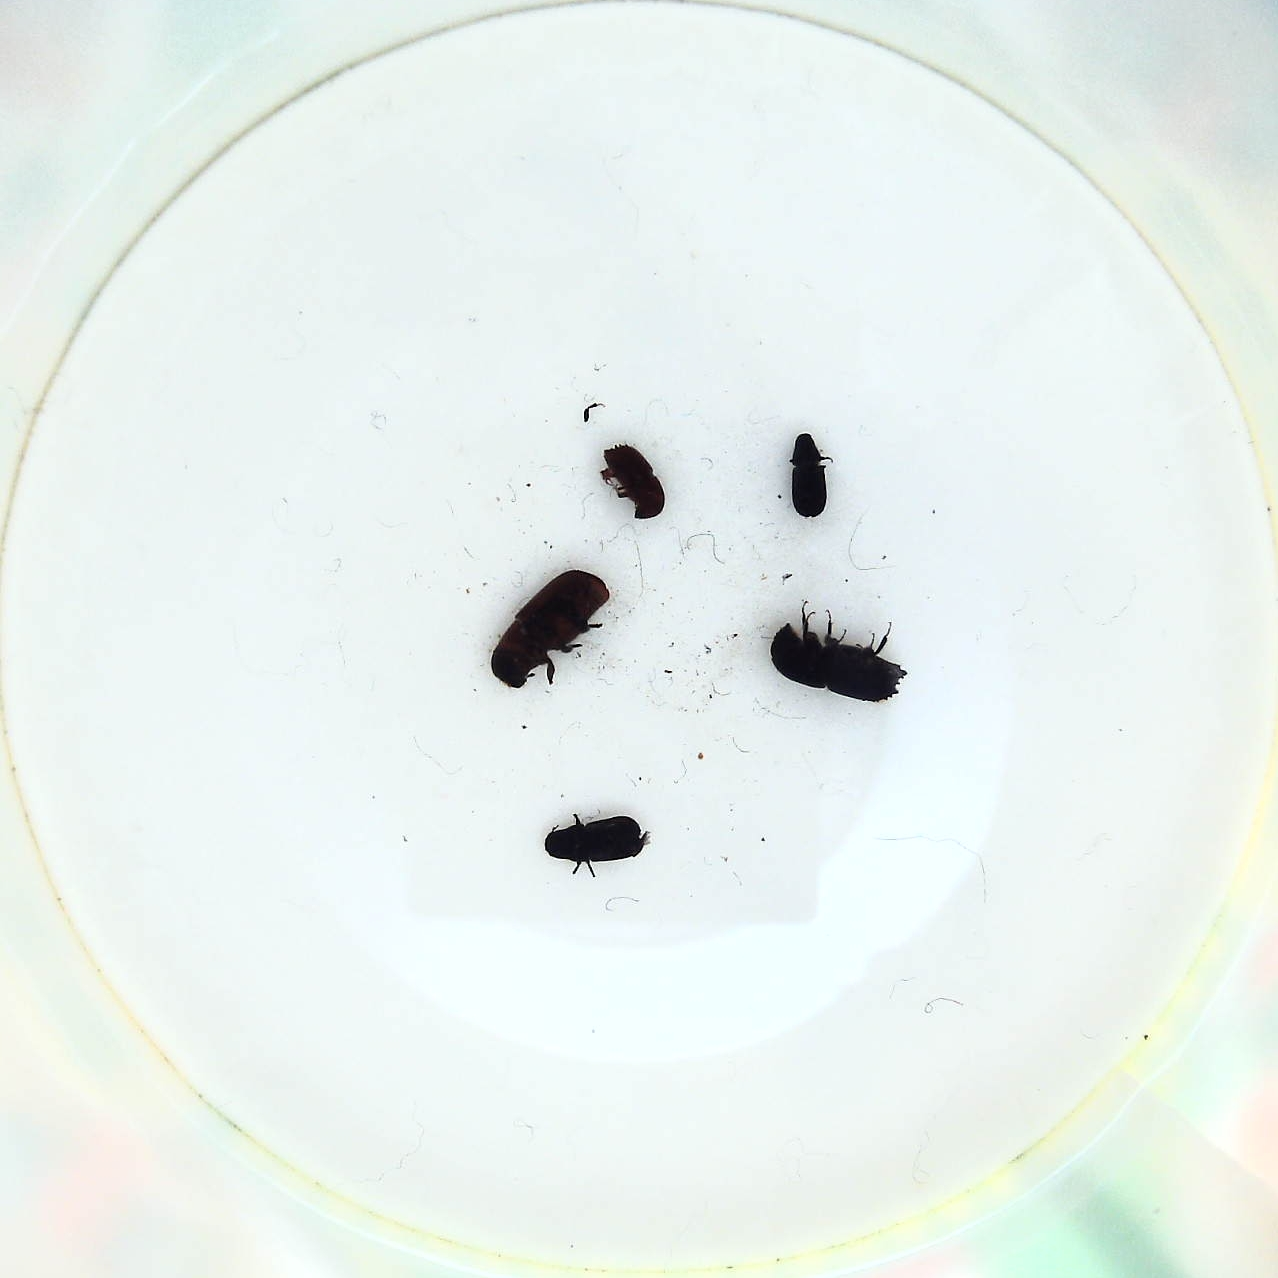Boerner: (767, 602, 911, 707)
Leconte: (489, 568, 611, 694)
armandi: (540, 811, 652, 877)
coleoptera: (786, 426, 834, 521)
linnaeus: (596, 438, 669, 524)
